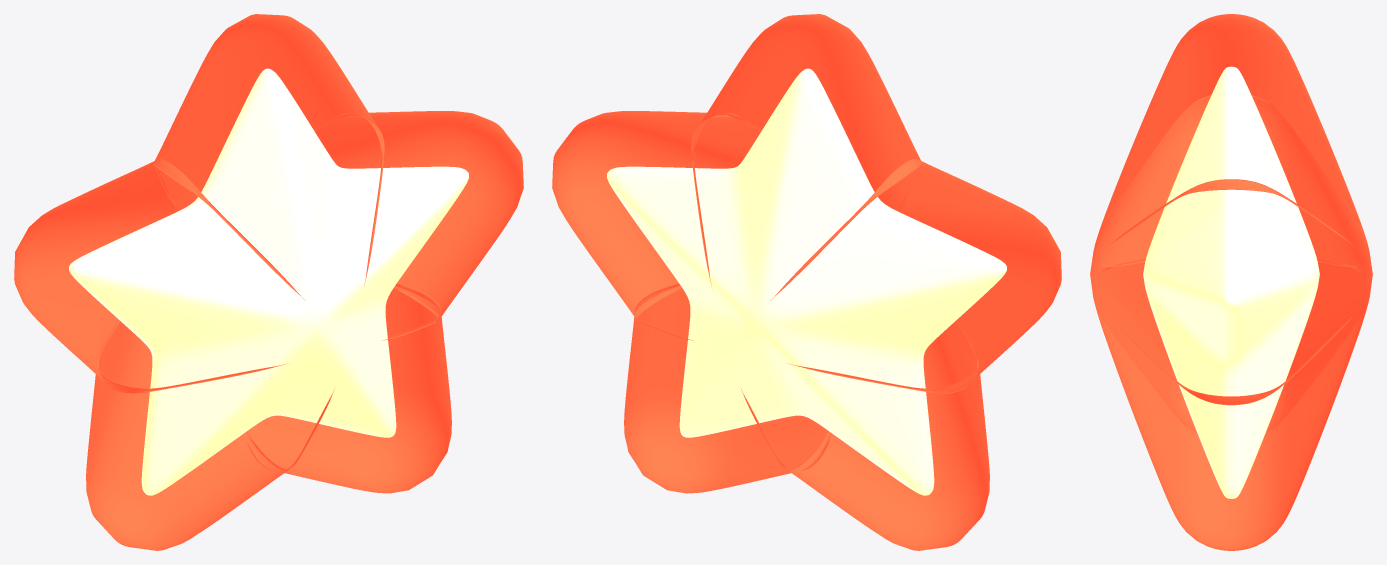
File: star.glb
3 views of the same model, side by side, from view 1: azimuth 30°, elevation 25°; view 2: azimuth 150°, elevation 25°; view 3: azimuth 270°, elevation 25° (orthographic). The views are drawn at different scales.
Visible parts, largest first — view 1: star; view 2: star; view 3: star.
Boxes of the visible parts, left/top/right/bottom form: star: left=14, top=14, right=523, bottom=550; star: left=552, top=14, right=1061, bottom=550; star: left=1090, top=14, right=1372, bottom=550.
Bounding box in the file's own units: 0.139 × 0.1343 × 0.073.
